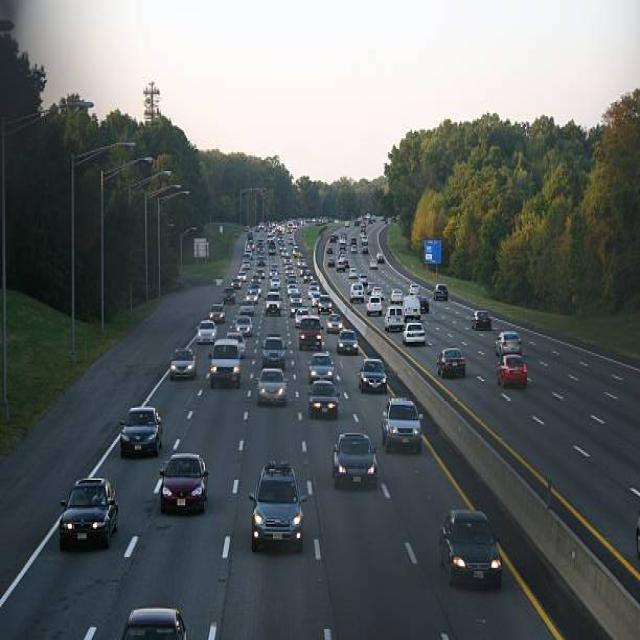Car: (248, 460, 304, 552), (438, 508, 502, 588), (59, 477, 118, 550), (158, 452, 208, 514), (332, 432, 378, 486), (380, 397, 422, 453), (118, 405, 162, 458), (119, 606, 187, 638), (436, 347, 465, 378), (471, 309, 492, 329)
Traffic-sign: (422, 237, 442, 263)
